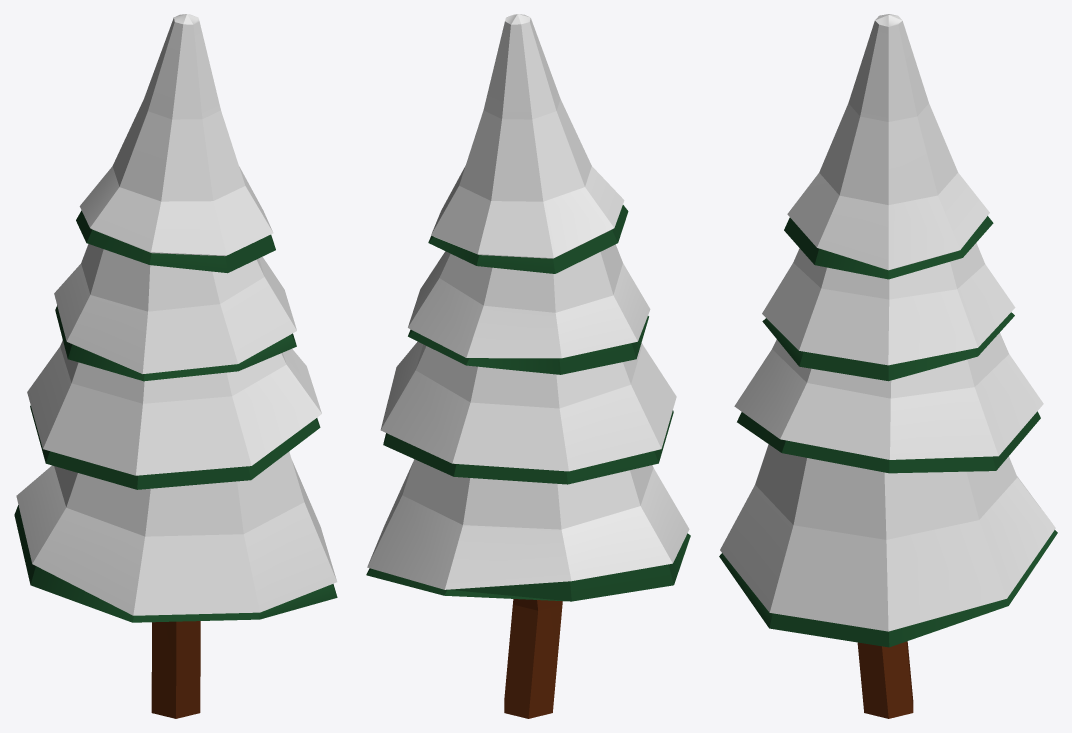
File: Winter_015.fbx
3 views of the same model, side by side, from view 1: azimuth 30°, elevation 25°; view 2: azimuth 150°, elevation 25°; view 3: azimuth 270°, elevation 25° (orthographic).
Parts seen in each view (by area): view 1: Winter_015; view 2: Winter_015; view 3: Winter_015.
Boxes of the visible parts, bbox=[...] form: Winter_015: bbox=[14, 14, 337, 718]; Winter_015: bbox=[366, 14, 690, 718]; Winter_015: bbox=[719, 14, 1057, 718].
Bounding box in the file's own units: 2.61 × 5.92 × 2.61.
